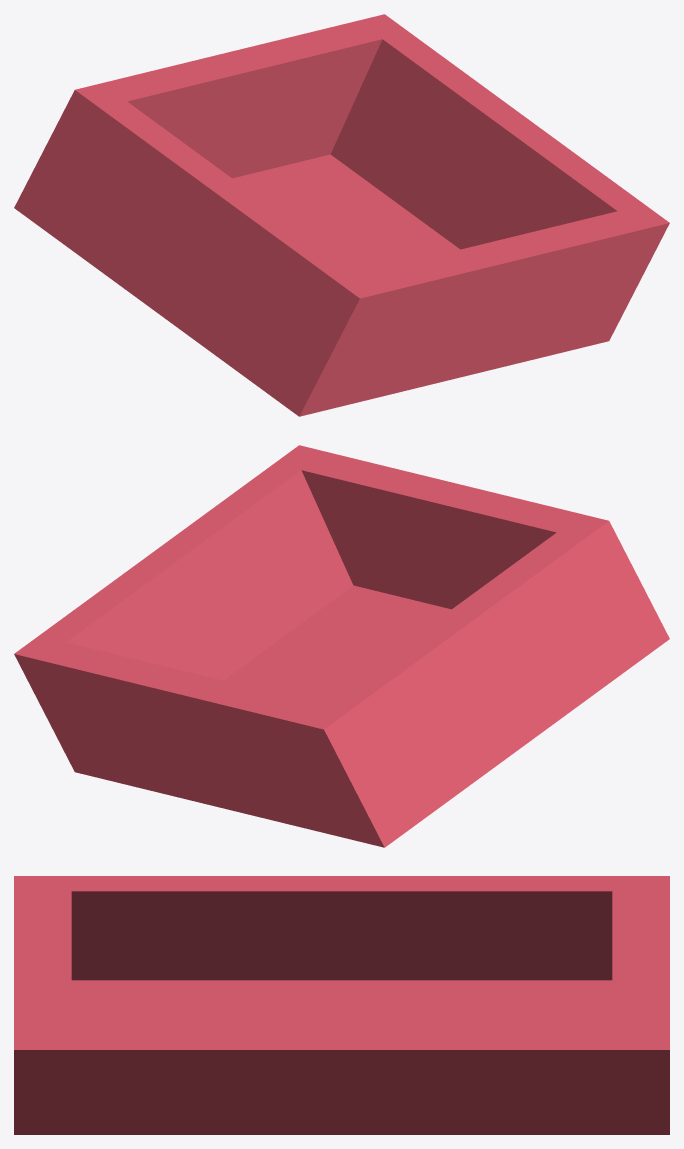
The model's file is Register_Drawer.fbx.
The picture shows the model from 3 angles, top to bottom: view 1: azimuth 30°, elevation 25°; view 2: azimuth 150°, elevation 25°; view 3: azimuth 270°, elevation 25°; orthographic projection. The views are drawn at different scales.
Visible parts, largest first — view 1: Register Drawer; view 2: Register Drawer; view 3: Register Drawer.
Part boxes in pixels (x1,y1,x2,y2): Register Drawer: (14, 14, 669, 416); Register Drawer: (14, 445, 669, 847); Register Drawer: (14, 876, 669, 1134).
Size of the model in its own units: 1.26 by 0.3346 by 1.67.
